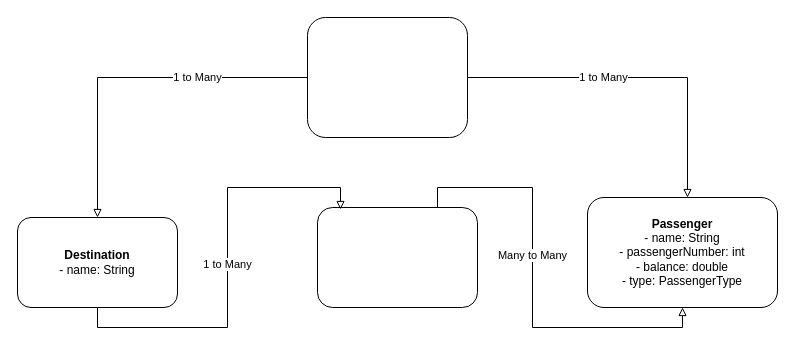
The diagram is 795 pixels wide and 353 high, and some of its shapes have lost their labels. The shapes that lost their labels are listed below. From the top down, each one's centre as x and y in pixels, then its label:
At (387,77): "TravelPackage - name: String - passengerCapacity: int".
At (397,257): "Activity - name: String - description: String - cost: double - capacity: int".
